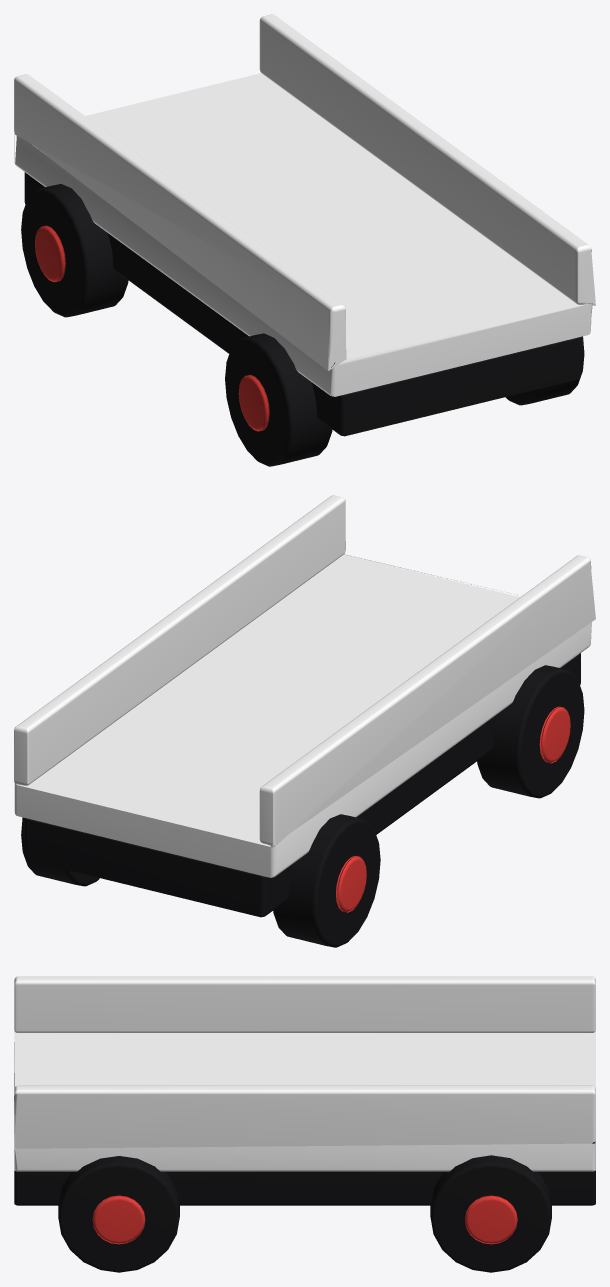
The model's file is open_car.glb.
3 renders of one model, top to bottom at view 1: azimuth 30°, elevation 25°; view 2: azimuth 150°, elevation 25°; view 3: azimuth 270°, elevation 25°, orthographic. The views are drawn at different scales.
Parts seen in each view (by area): view 1: open_car.001; view 2: open_car.001; view 3: open_car.001.
Part boxes in pixels (box(x1,y1,x2,y2)): open_car.001: box(14, 14, 595, 466); open_car.001: box(14, 495, 595, 947); open_car.001: box(14, 976, 595, 1272).
Bounding box in the file's own units: 6.1 × 3.65 × 11.01.
